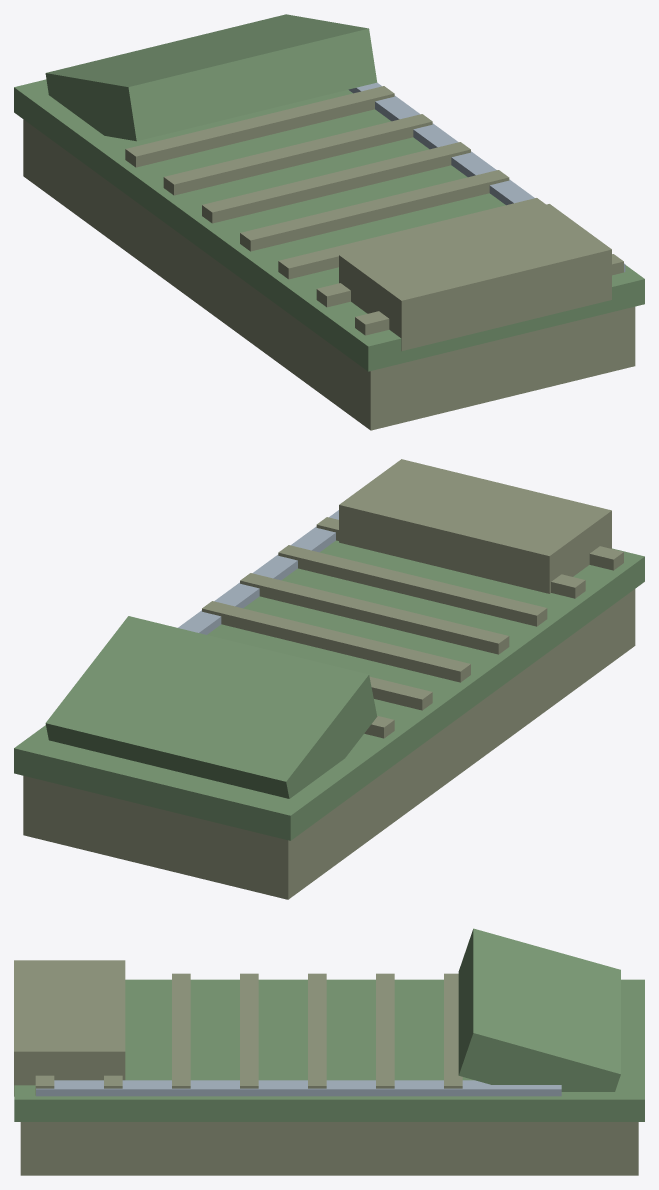
The model's file is wipe-day-survival-island-sleeping-bag-504ec097__27458.glb.
3 renders of one model, top to bottom at view 1: azimuth 30°, elevation 25°; view 2: azimuth 150°, elevation 25°; view 3: azimuth 270°, elevation 25°, orthographic. The views are drawn at different scales.
Parts seen in each view (by area): view 1: sleeping-bag; view 2: sleeping-bag; view 3: sleeping-bag.
Part boxes in pixels (x1=…): sleeping-bag: x1=14, y1=14, x2=644, y2=430; sleeping-bag: x1=14, y1=459, x2=644, y2=899; sleeping-bag: x1=14, y1=928, x2=644, y2=1175.
Bounding box in the file's own units: 0.92 × 0.4903 × 2.04.
